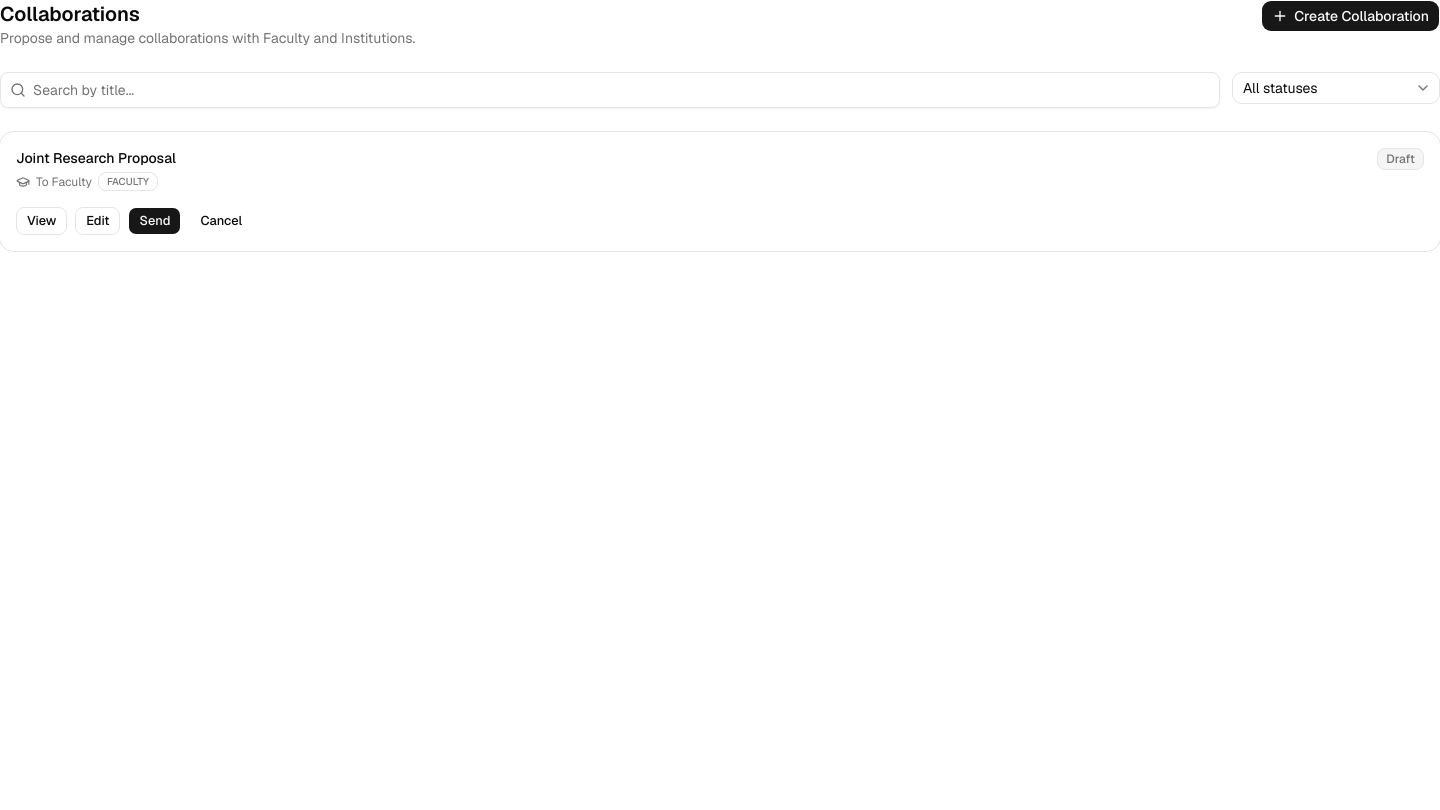
Test: CollaborationsListView › surfaces a lifecycle error from the API
Expected: the link "Joint Research Proposal" is shown, [16,148,176,168]
What coordinates should you click on to do the following:
click the button "Send"
I would click on:
 (155, 221)
Its box is [128,207,182,235].
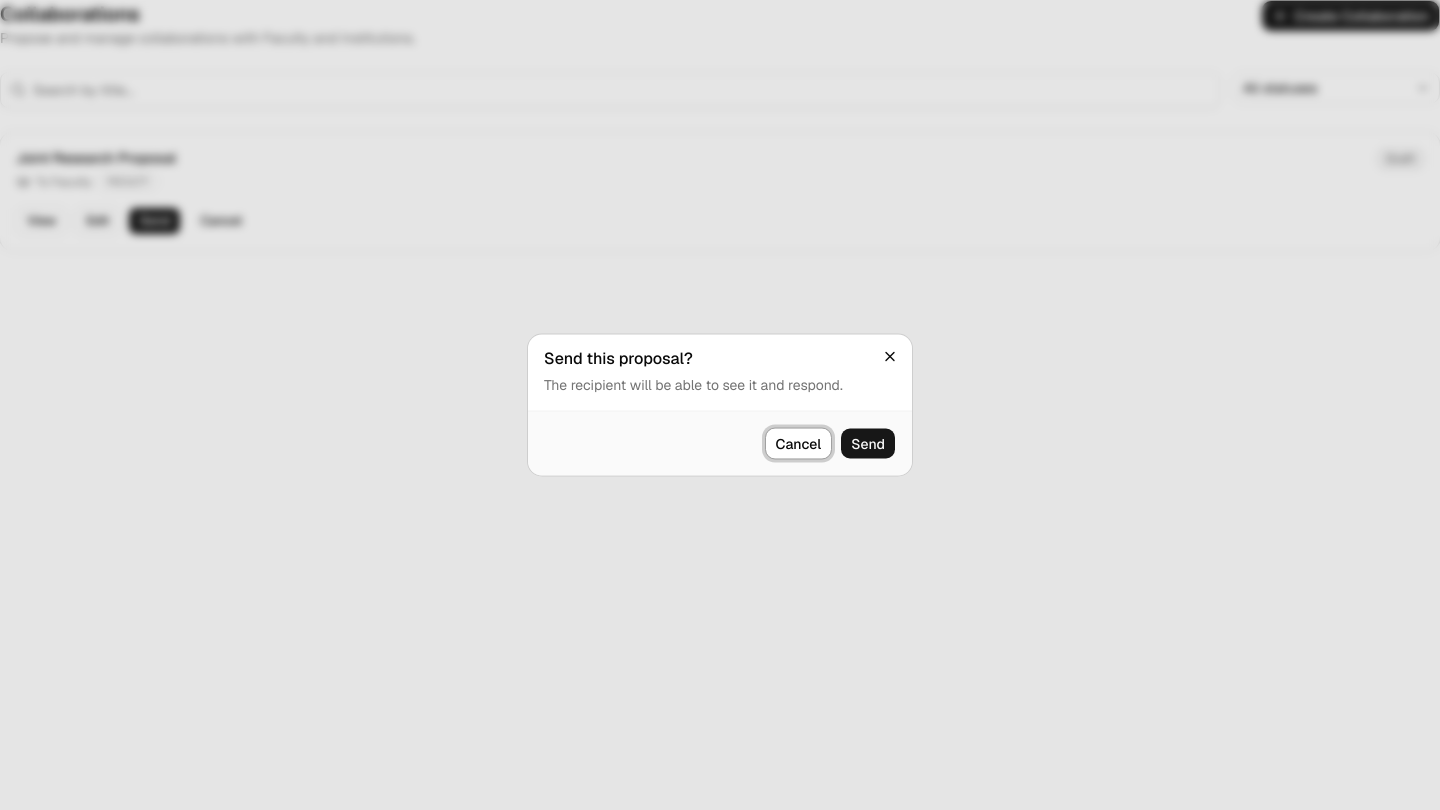
What coordinates should you click on to do the following:
click the button "Send"
I would click on:
 (868, 444)
Its box is [840,428,896,460].
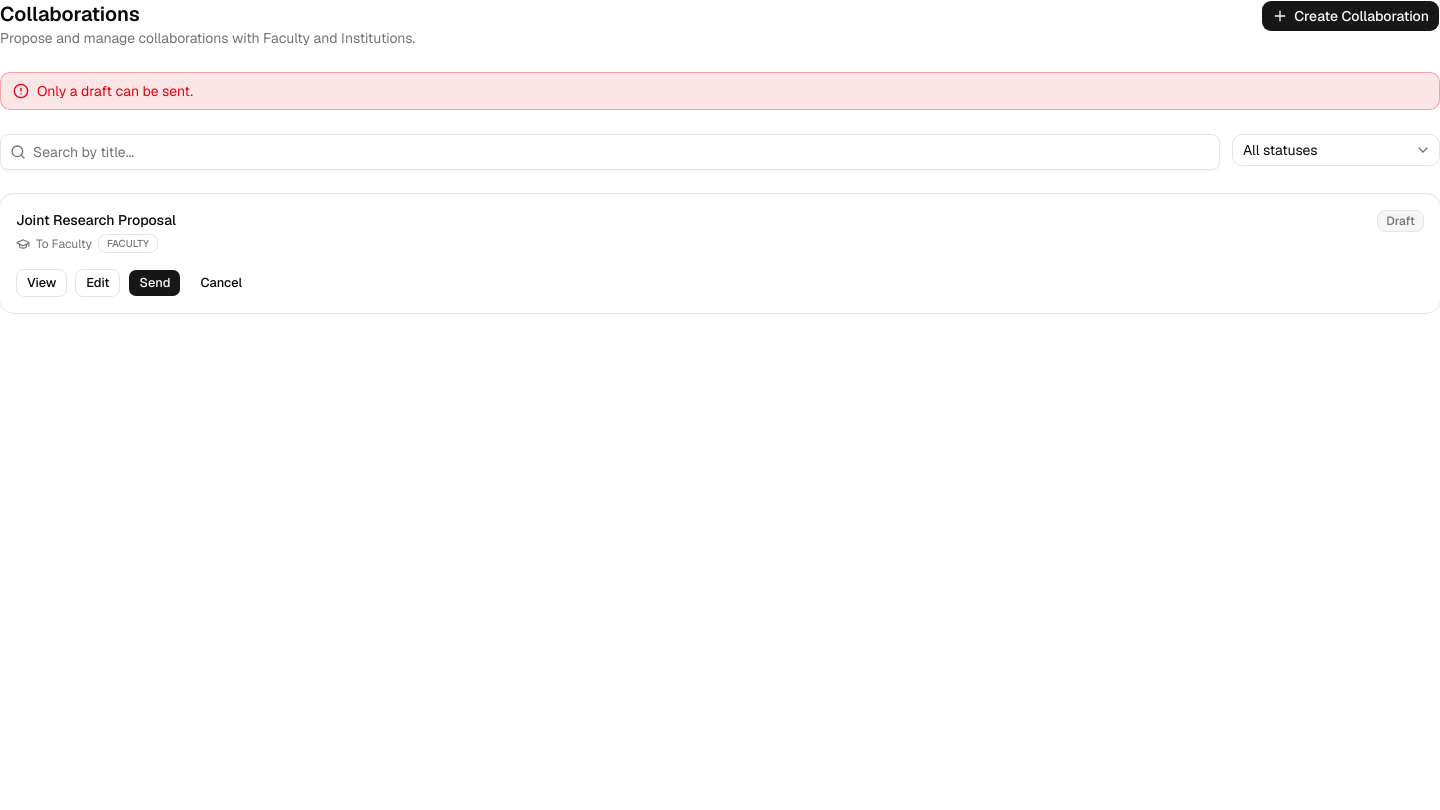
Expected: the text "Only a draft can be sent." is shown, [37,81,193,101]
